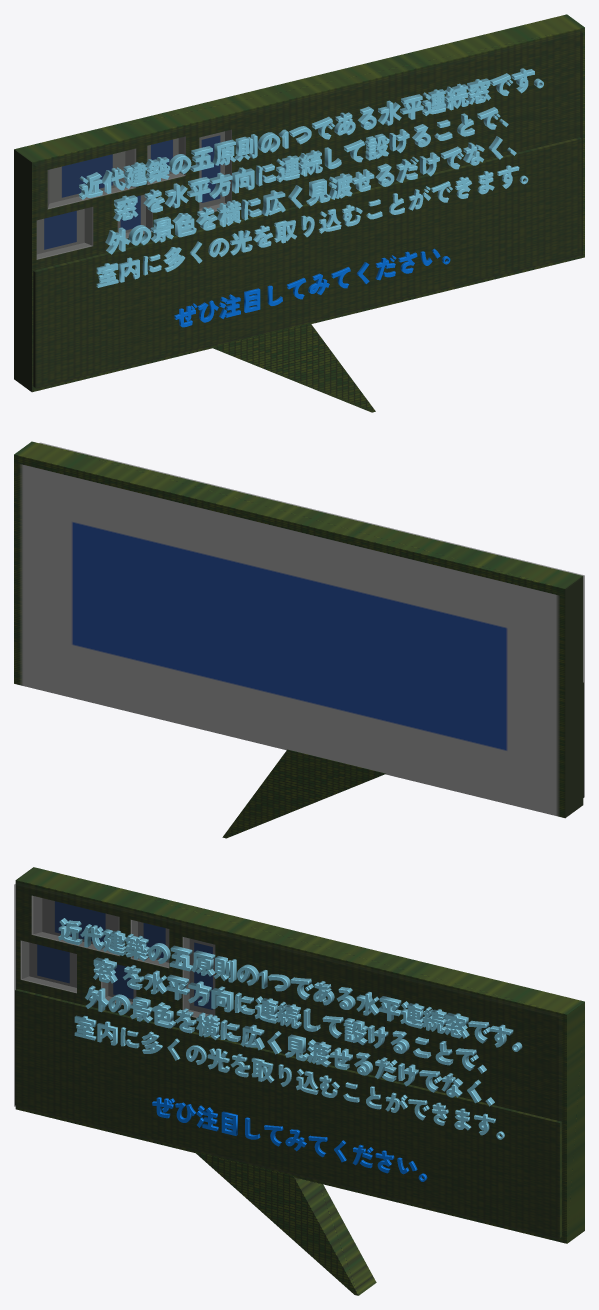
File: c-fukidasi-mado.glb
3 renders of one model, top to bottom at view 1: azimuth 30°, elevation 25°; view 2: azimuth 150°, elevation 25°; view 3: azimuth 330°, elevation 25°, orthographic.
Parts seen in each view (by area): view 1: 立方体.003, 立方体, 立方体.002, テキスト, 立方体.001; view 2: 立方体, 立方体.001, 立方体.003; view 3: 立方体.003, 立方体, 立方体.002, テキスト, 立方体.001.
Boxes of the visible parts, x1,y1,x2,y2 form: 立方体.003: [33, 31, 582, 388]; 立方体: [14, 14, 584, 392]; 立方体.002: [33, 137, 581, 387]; テキスト: [78, 68, 543, 327]; 立方体.001: [211, 323, 375, 412]; 立方体: [14, 441, 583, 818]; 立方体.001: [222, 749, 385, 838]; 立方体.003: [39, 442, 584, 797]; 立方体.003: [14, 883, 561, 1239]; 立方体: [15, 867, 584, 1243]; 立方体.002: [15, 989, 561, 1238]; テキスト: [58, 918, 522, 1181]; 立方体.001: [195, 1152, 376, 1295].
Bounding box in the file's own units: 11.12 × 6.4 × 0.7575.
Materials: 6 (3 with a texture image).
